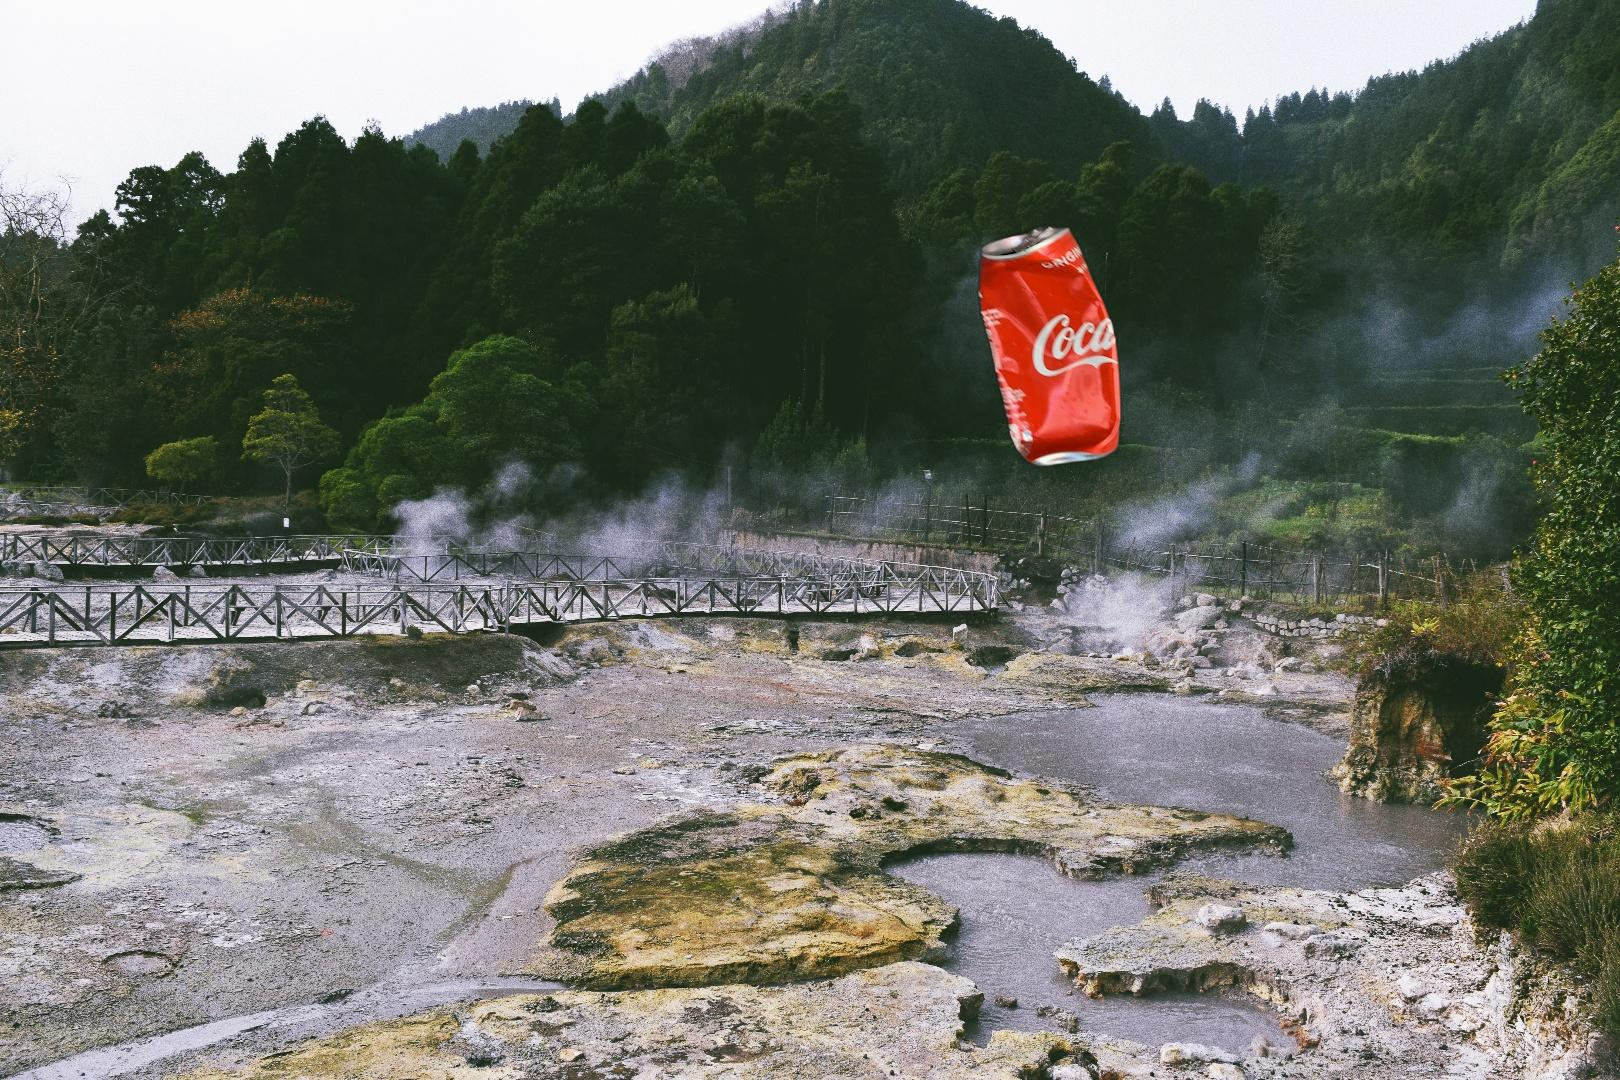metal-cans: (972, 221, 1126, 472)
